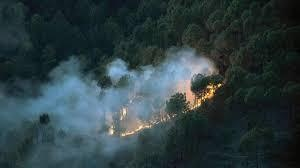fire: (175, 79, 223, 108)
